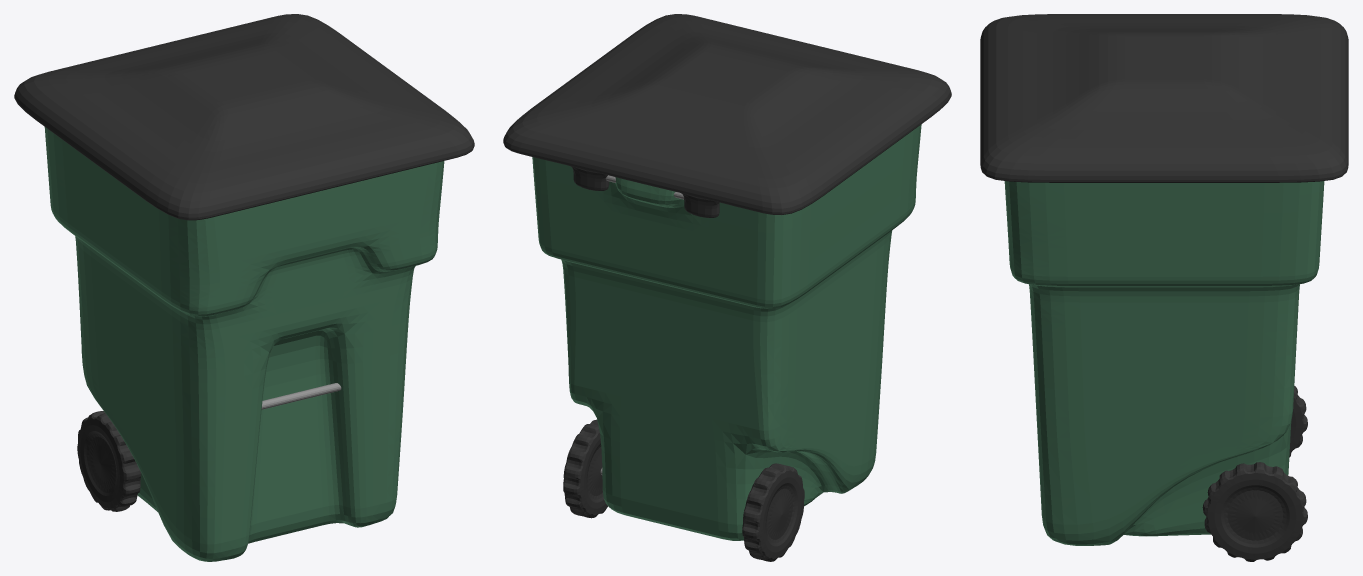
Rendered from residential-trashcan.obj.
The picture shows the model from 3 angles, left to right: view 1: azimuth 30°, elevation 25°; view 2: azimuth 150°, elevation 25°; view 3: azimuth 270°, elevation 25°; orthographic projection. The views are drawn at different scales.
Parts seen in each view (by area): view 1: residential_trash_residential_trash_PLASTIC_green, residential_trash_residential_trash_PLASTIC_black, residential_trash_residential_trash_METAL_aluminum; view 2: residential_trash_residential_trash_PLASTIC_green, residential_trash_residential_trash_PLASTIC_black; view 3: residential_trash_residential_trash_PLASTIC_green, residential_trash_residential_trash_PLASTIC_black.
Part boxes in pixels (x1,y1,x2,y2): residential_trash_residential_trash_PLASTIC_green: [44, 127, 444, 561]; residential_trash_residential_trash_PLASTIC_black: [14, 14, 474, 511]; residential_trash_residential_trash_METAL_aluminum: [261, 383, 341, 409]; residential_trash_residential_trash_PLASTIC_green: [532, 124, 921, 540]; residential_trash_residential_trash_PLASTIC_black: [503, 14, 951, 561]; residential_trash_residential_trash_PLASTIC_green: [1004, 181, 1324, 545]; residential_trash_residential_trash_PLASTIC_black: [980, 14, 1348, 561].
Bounding box in the file's own units: 4.37 × 5.96 × 4.37.
